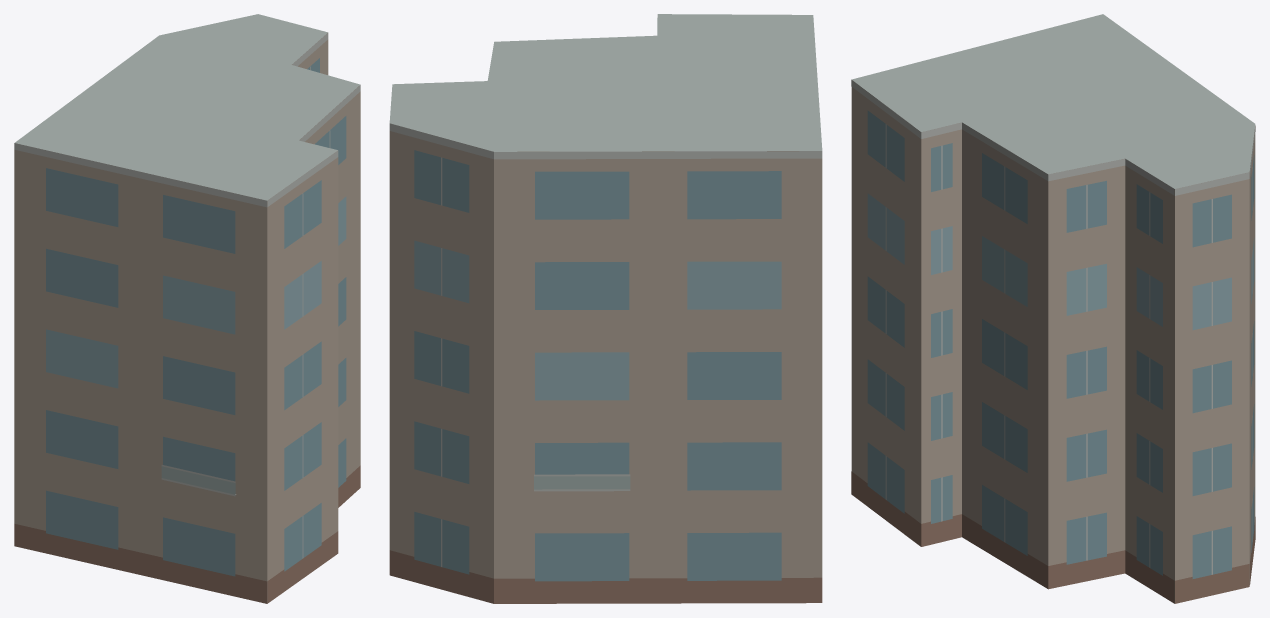
Rendered from survey-upis-32855290.glb.
3 renders of one model, left to right at view 1: azimuth 30°, elevation 25°; view 2: azimuth 150°, elevation 25°; view 3: azimuth 270°, elevation 25°, orthographic. The views are drawn at different scales.
Visible parts, largest first — view 1: survey-upis-32855290.tmp; view 2: survey-upis-32855290.tmp; view 3: survey-upis-32855290.tmp.
Part boxes in pixels (<box>): survey-upis-32855290.tmp: <box>14,14,360,603</box>; survey-upis-32855290.tmp: <box>389,14,822,603</box>; survey-upis-32855290.tmp: <box>851,14,1255,603</box>.
Bounding box in the file's own units: 13.22 × 14.6 × 12.9.
